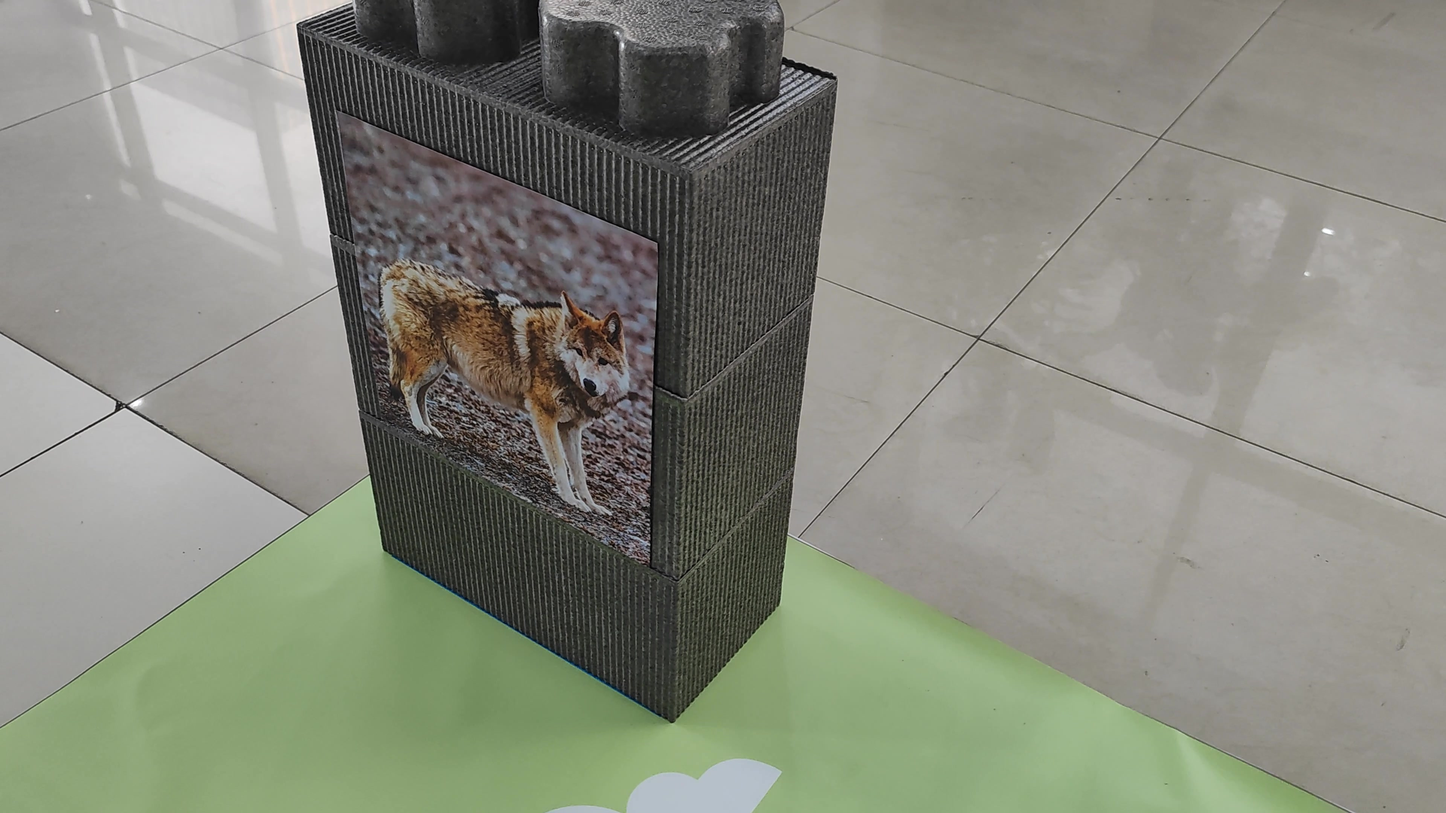wolf: (354, 168, 646, 507)
